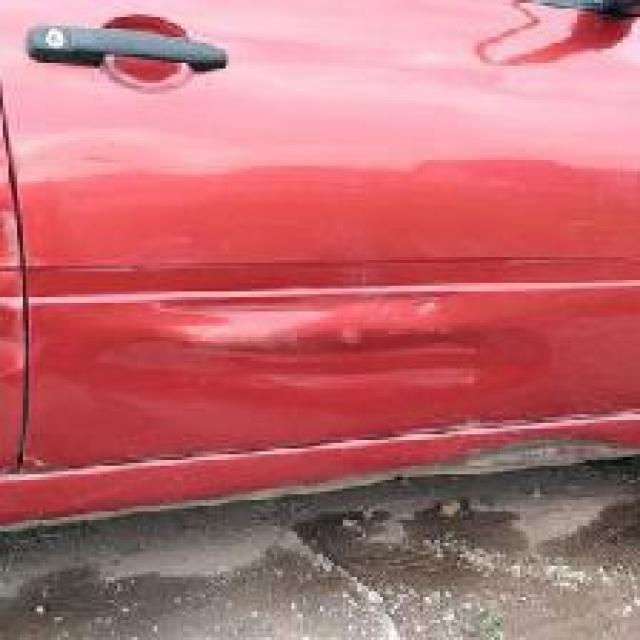damaged: (0, 260, 566, 446)
